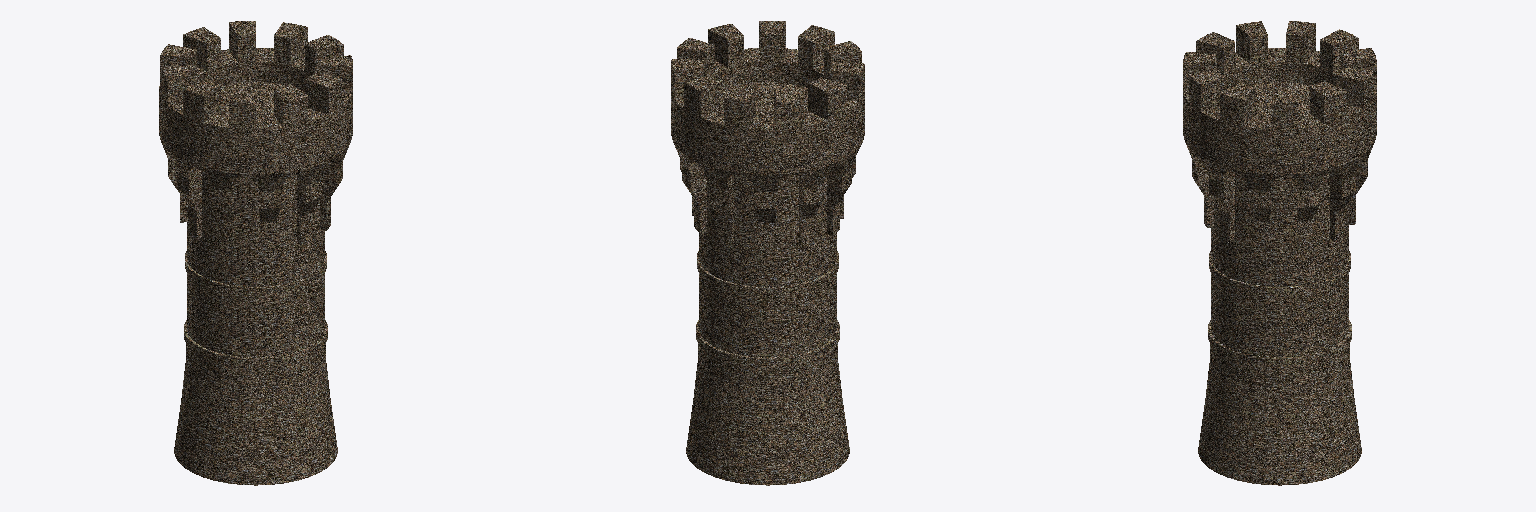
3 views of the same model, side by side, from view 1: azimuth 30°, elevation 25°; view 2: azimuth 150°, elevation 25°; view 3: azimuth 270°, elevation 25° (orthographic).
Visible parts, largest first — view 1: Tower Cilindro, Tower Boole Tubo_2, Tower Tubo_1, Tower Tube, Tower Cilindro_1, Tower Boole ghost Cubo_9, Tower Boole ghost Cubo_5; view 2: Tower Cilindro, Tower Boole Tubo_2, Tower Tubo_1, Tower Tube, Tower Cilindro_1, Tower Boole ghost Cubo_1, Tower Boole ghost Cubo_6; view 3: Tower Cilindro, Tower Boole Tubo_2, Tower Tubo_1, Tower Tube, Tower Cilindro_1, Tower Boole ghost Cubo_2, Tower Boole ghost Cubo_9, Tower Boole ghost Cubo_3.
Part boxes in pixels (x1,y1,x2,y2): Tower Cilindro: (174,172,337,485); Tower Boole Tubo_2: (159,21,352,250); Tower Tubo_1: (184,320,327,365); Tower Tube: (185,251,326,294); Tower Cilindro_1: (221,82,304,115); Tower Boole ghost Cubo_9: (320,156,340,230); Tower Boole ghost Cubo_5: (187,166,201,238); Tower Cilindro: (686,174,849,485); Tower Boole Tubo_2: (671,21,864,250); Tower Tubo_1: (696,320,839,365); Tower Tube: (697,251,838,294); Tower Cilindro_1: (723,82,807,115); Tower Boole ghost Cubo_1: (688,160,706,233); Tower Boole ghost Cubo_6: (827,162,843,235); Tower Cilindro: (1198,172,1361,485); Tower Boole Tubo_2: (1183,21,1376,250); Tower Tubo_1: (1208,320,1351,365); Tower Tube: (1209,251,1350,294); Tower Cilindro_1: (1250,82,1309,115); Tower Boole ghost Cubo_2: (1330,168,1343,240); Tower Boole ghost Cubo_9: (1193,154,1213,227); Tower Boole ghost Cubo_3: (1223,171,1234,242).
Bounding box in the file's own units: 274 × 609 × 274.
1 materials, 1 textured.